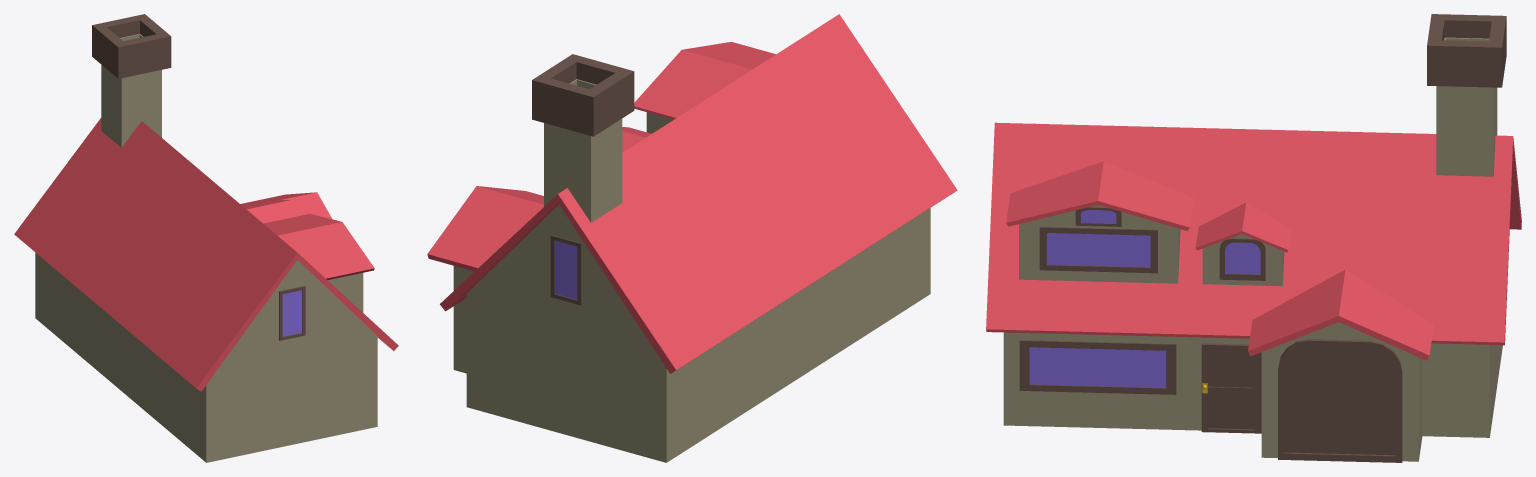
Rendered from CALLE9_CASA1_051.fbx.
The picture shows the model from 3 angles, left to right: view 1: azimuth 30°, elevation 25°; view 2: azimuth 150°, elevation 25°; view 3: azimuth 270°, elevation 25°; orthographic projection. The views are drawn at different scales.
Visible parts, largest first — view 1: CASA1.051; view 2: CASA1.051; view 3: CASA1.051.
Boxes of the visible parts, left/top/right/bottom form: CASA1.051: left=14, top=14, right=398, bottom=462; CASA1.051: left=427, top=14, right=957, bottom=462; CASA1.051: left=986, top=14, right=1521, bottom=462.
Size of the model in its own units: 707 by 734 by 1004.
